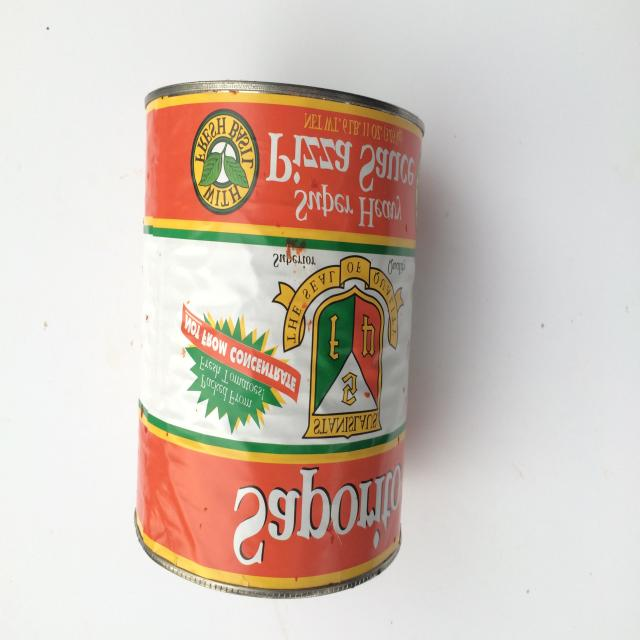metal: (134, 79, 426, 599)
